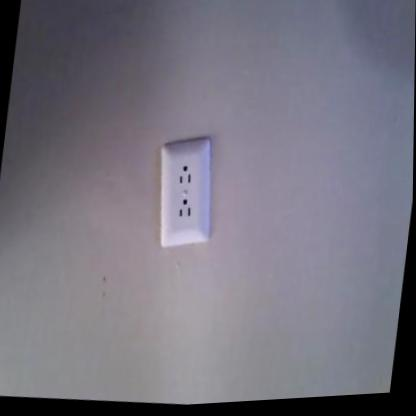OUTLET: (149, 131, 218, 252)
